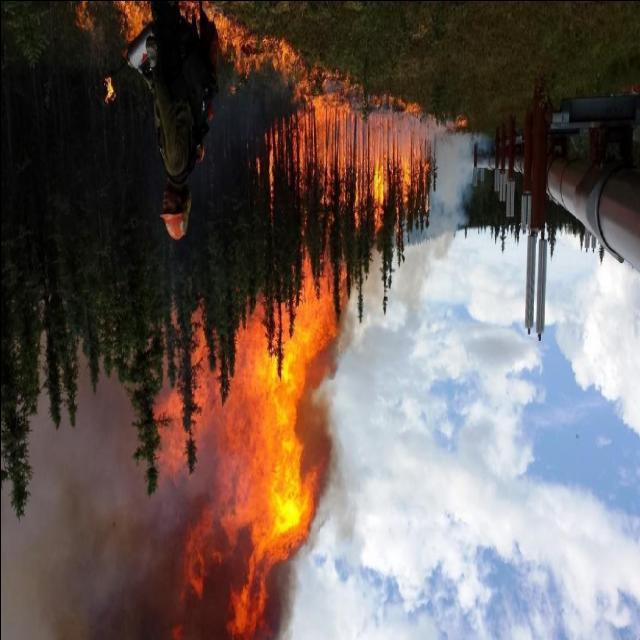Fire: (164, 93, 417, 626)
